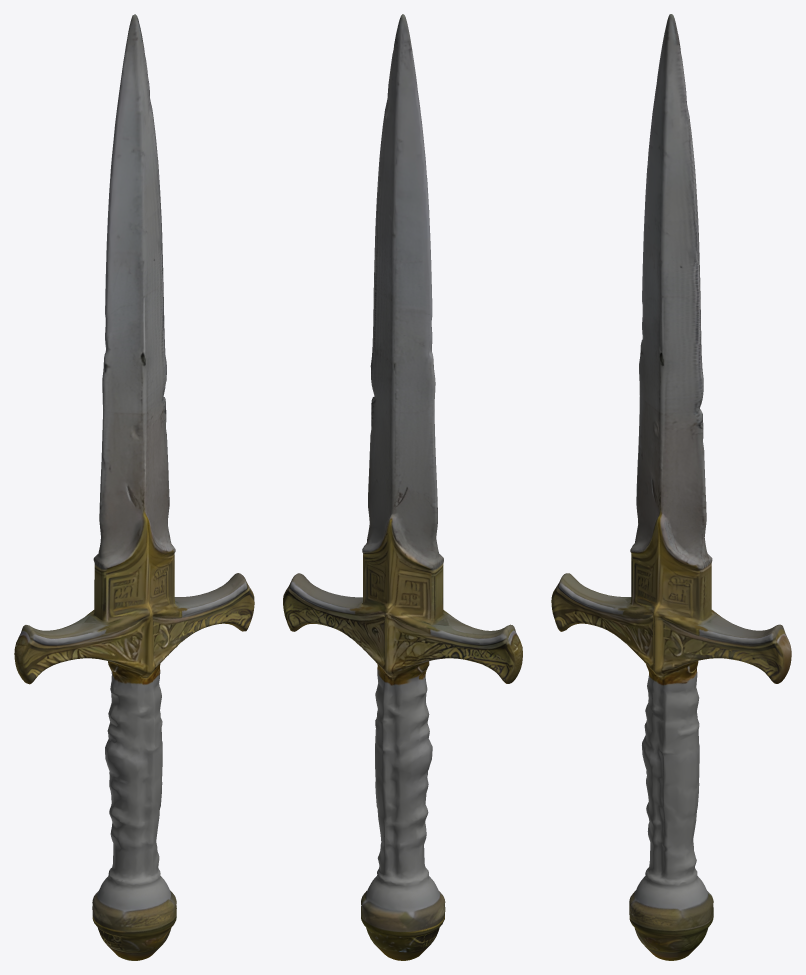
Rendered from dirk.glb.
3 views of the same model, side by side, from view 1: azimuth 30°, elevation 25°; view 2: azimuth 150°, elevation 25°; view 3: azimuth 330°, elevation 25° (orthographic).
Visible parts, largest first — view 1: tripo_node_65a8c16a-23e8-484b-91f9-03a2dcd4c44a; view 2: tripo_node_65a8c16a-23e8-484b-91f9-03a2dcd4c44a; view 3: tripo_node_65a8c16a-23e8-484b-91f9-03a2dcd4c44a.
Boxes of the visible parts, <box> form: tripo_node_65a8c16a-23e8-484b-91f9-03a2dcd4c44a: <box>14,14,254,960</box>; tripo_node_65a8c16a-23e8-484b-91f9-03a2dcd4c44a: <box>283,14,522,960</box>; tripo_node_65a8c16a-23e8-484b-91f9-03a2dcd4c44a: <box>551,14,791,960</box>.
Size of the model in its own units: 0.2623 by 0.9997 by 0.08.
1 material, 1 textured.
